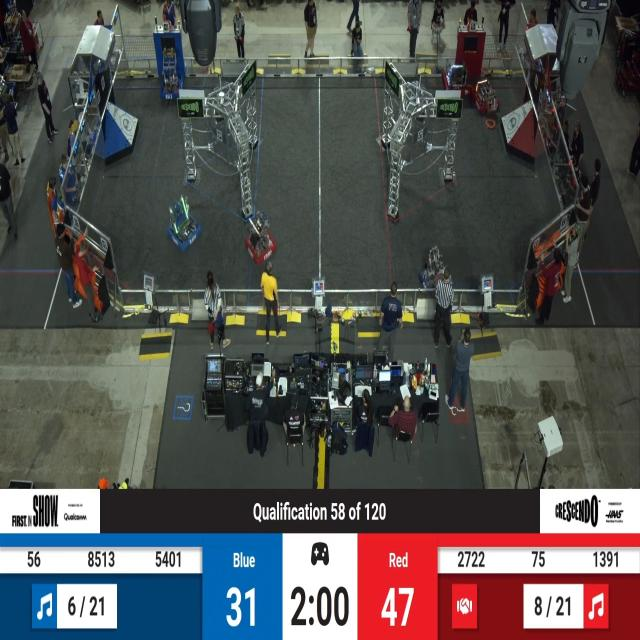Robot: (414, 240, 456, 297), (166, 193, 202, 256), (245, 204, 280, 268), (158, 40, 184, 105), (443, 57, 473, 103), (472, 76, 500, 118)
